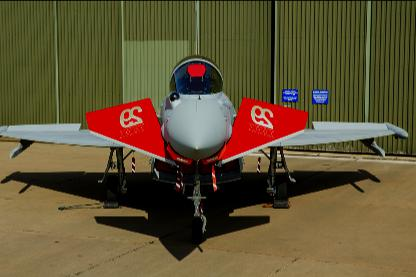E2: (1, 0, 409, 244)
